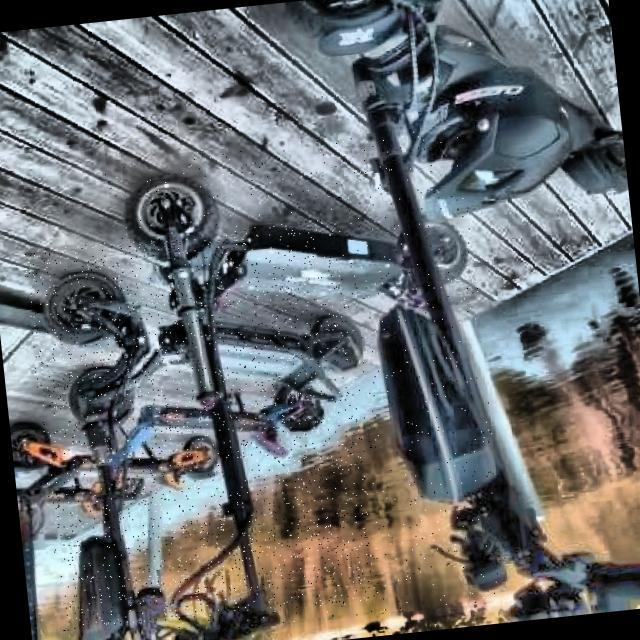bike: (0, 1, 636, 636)
